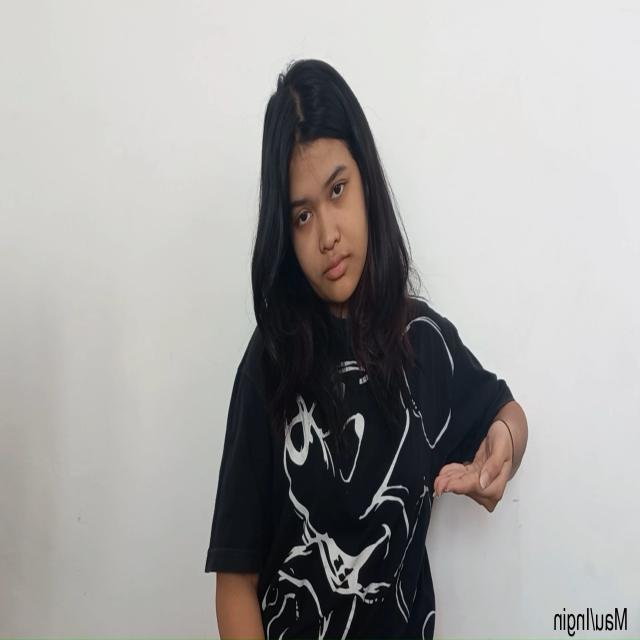Mau-Ingin -BISINDO-: (430, 415, 519, 517)
